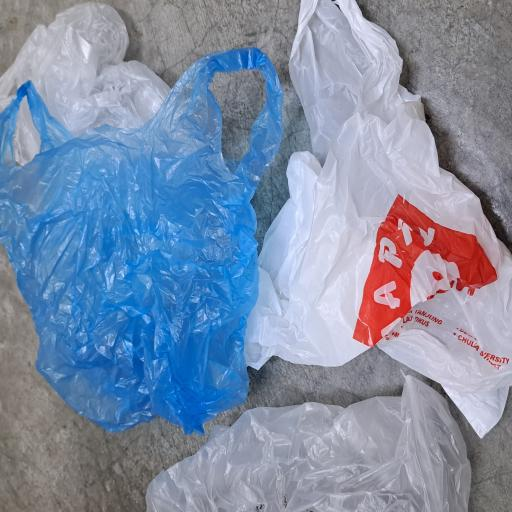plastic bag: (59, 0, 351, 379), (54, 325, 383, 512), (0, 192, 103, 512), (254, 0, 384, 233)
